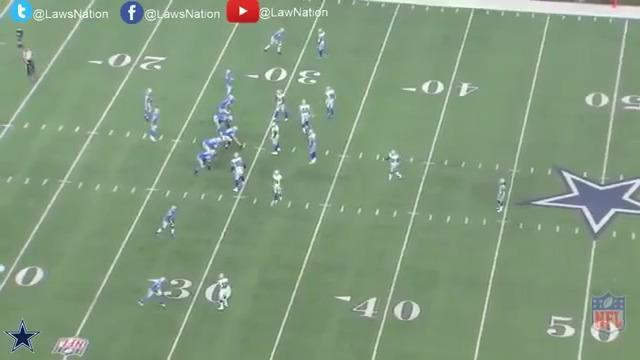player: (136, 276, 170, 309), (155, 204, 180, 242), (230, 153, 249, 195), (264, 26, 288, 57), (304, 125, 321, 167), (191, 149, 216, 177), (272, 88, 291, 124), (385, 147, 404, 183), (146, 101, 162, 143), (270, 168, 286, 208), (493, 176, 509, 215), (299, 99, 314, 138), (215, 272, 230, 311), (201, 136, 225, 160), (219, 125, 242, 150), (216, 94, 236, 122), (213, 109, 232, 137), (326, 86, 340, 123), (315, 29, 329, 64), (142, 86, 154, 124), (222, 67, 236, 99), (270, 121, 282, 155)
ref: (24, 45, 39, 85)
